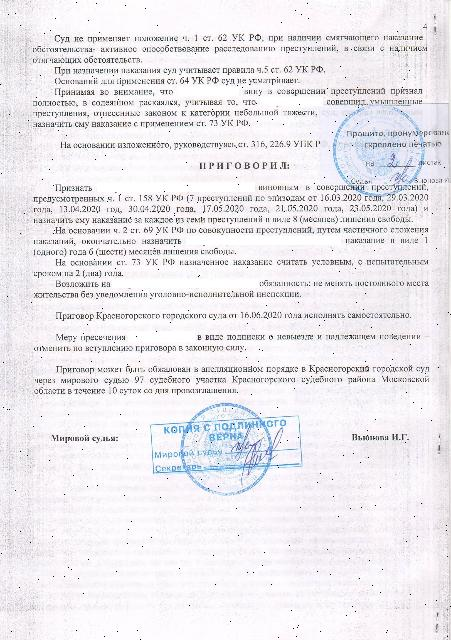stamp: (334, 104, 426, 196), (185, 404, 273, 496)
